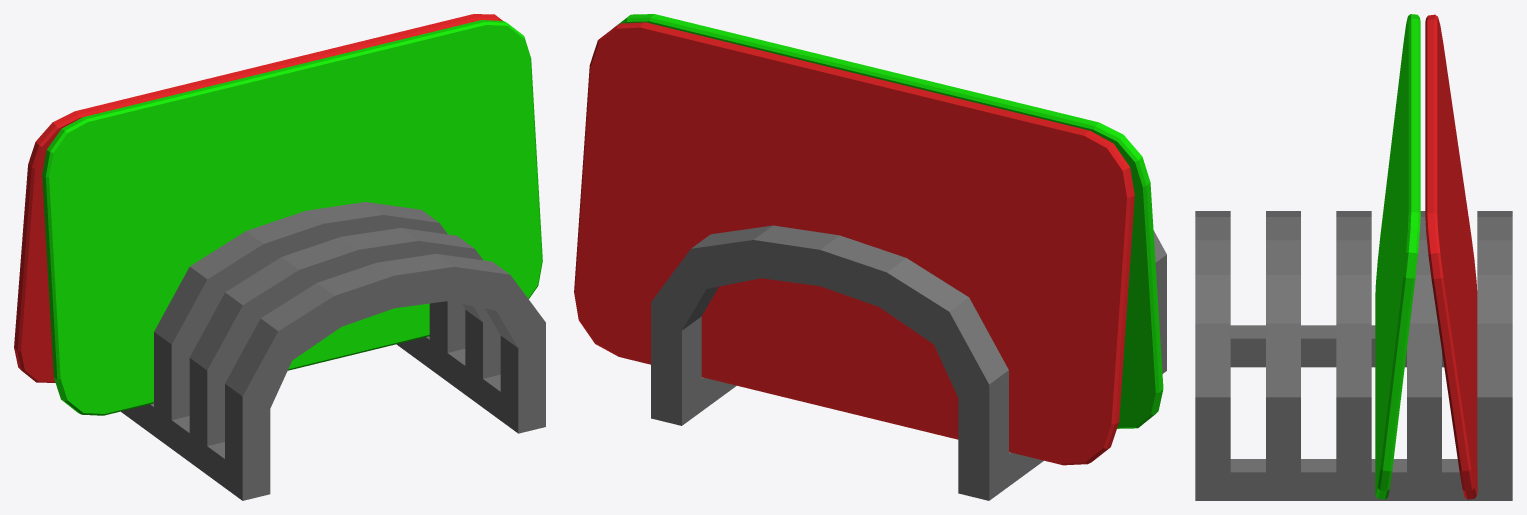
Rendered from MC_RackCuttingBoard.fbx.
3 renders of one model, left to right at view 1: azimuth 30°, elevation 25°; view 2: azimuth 150°, elevation 25°; view 3: azimuth 270°, elevation 25°, orthographic. The views are drawn at different scales.
Parts seen in each view (by area): view 1: CurringBoardGreen; view 2: CurringBoardGreen; view 3: CurringBoardGreen.
Boxes of the visible parts, x1,y1,x2,y2 form: CurringBoardGreen: (14, 14, 545, 500); CurringBoardGreen: (574, 14, 1166, 500); CurringBoardGreen: (1195, 14, 1512, 500).
Size of the model in its own units: 704 by 435 by 401.
